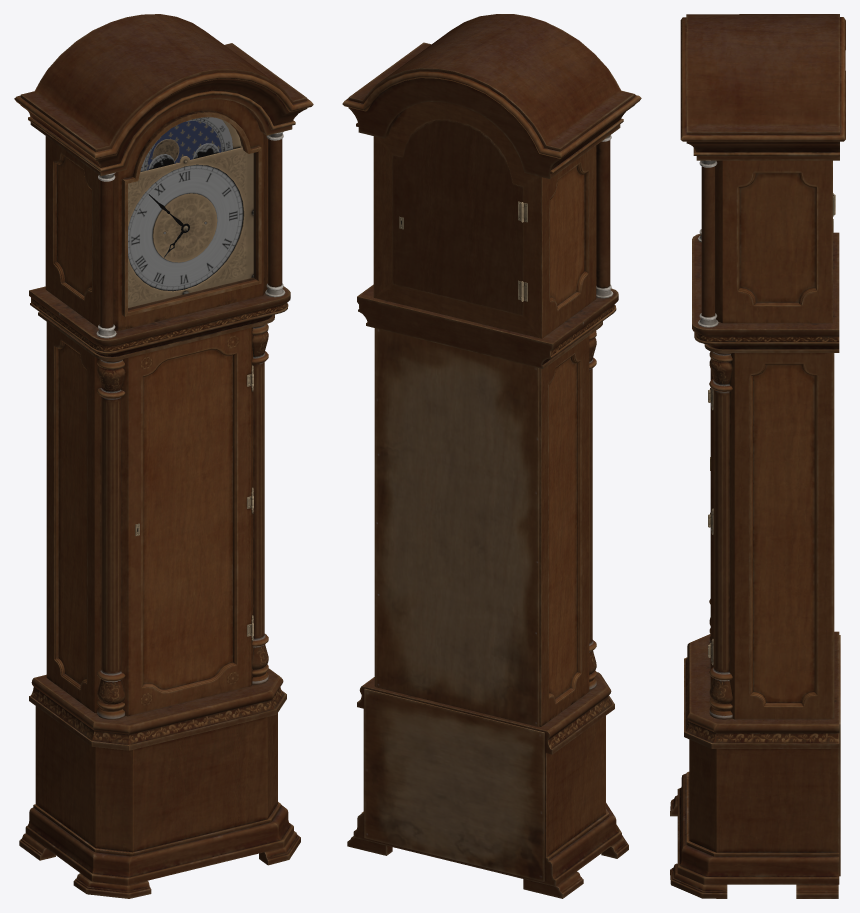
Rendered from vintage_grandfather_clock_01_4k.obj.
The picture shows the model from 3 angles, left to right: view 1: azimuth 30°, elevation 25°; view 2: azimuth 150°, elevation 25°; view 3: azimuth 270°, elevation 25°; orthographic projection. The views are drawn at different scales.
Visible parts, largest first — view 1: vintage_grandfather_clock_01_Body; view 2: vintage_grandfather_clock_01_Body; view 3: vintage_grandfather_clock_01_Body.
Boxes of the visible parts, <box> form: vintage_grandfather_clock_01_Body: <box>14,14,313,898</box>; vintage_grandfather_clock_01_Body: <box>342,14,641,898</box>; vintage_grandfather_clock_01_Body: <box>670,14,845,898</box>.
Size of the model in its own units: 0.6256 by 2.19 by 0.4266.
2 materials, 1 textured.
